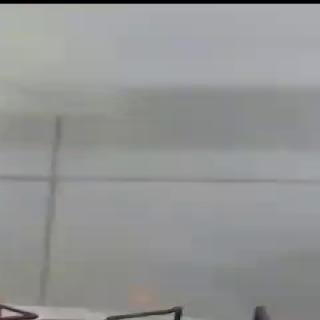fire: (0, 285, 71, 320)
